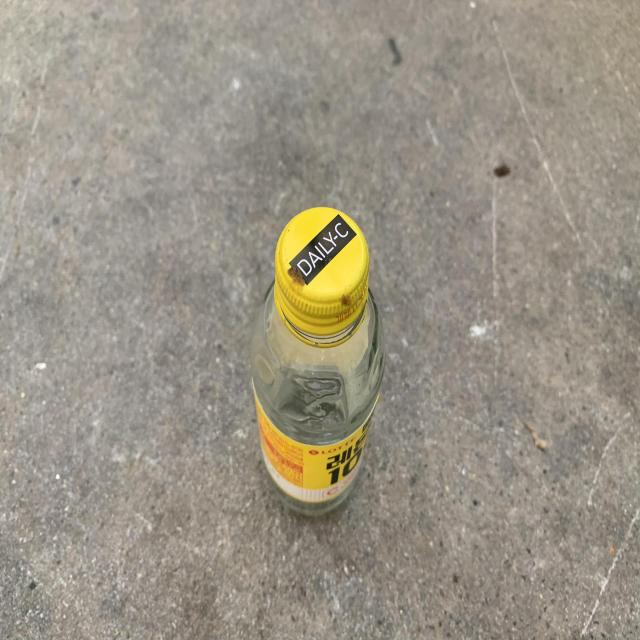glass: (251, 206, 385, 515)
